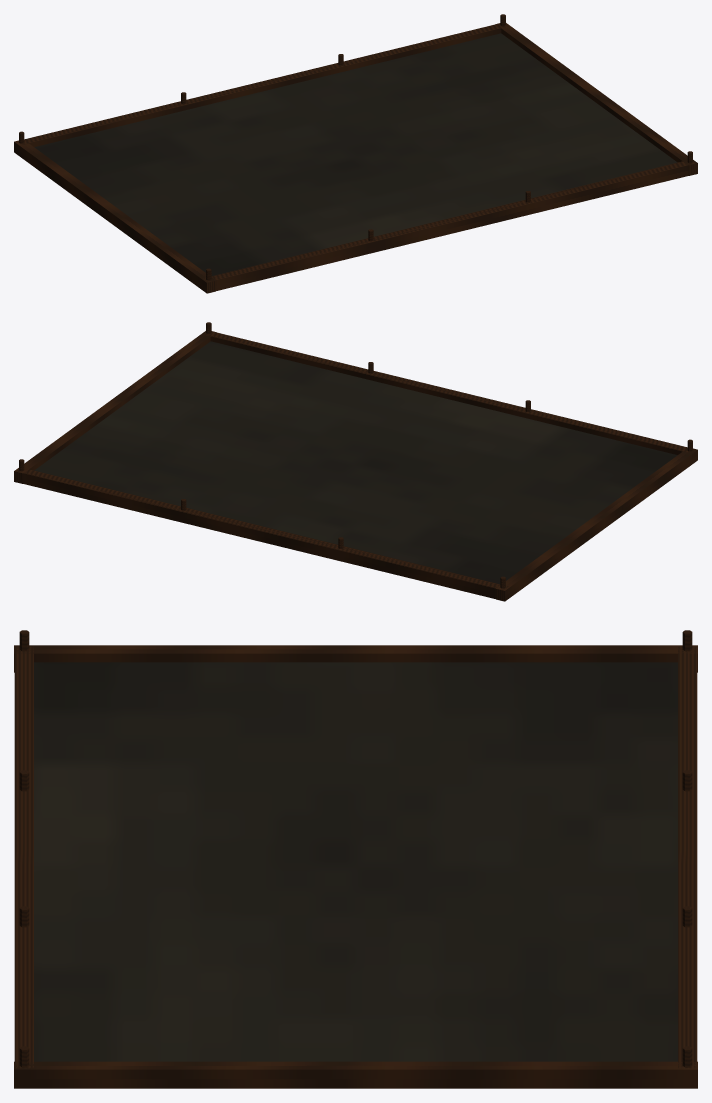
File: fac_yard_gravel.glb
The picture shows the model from 3 angles, top to bottom: view 1: azimuth 30°, elevation 25°; view 2: azimuth 150°, elevation 25°; view 3: azimuth 270°, elevation 25°; orthographic projection. The views are drawn at different scales.
Parts seen in each view (by area): view 1: FAC_YARD_GRAVEL; view 2: FAC_YARD_GRAVEL; view 3: FAC_YARD_GRAVEL.
Part boxes in pixels (x1,y1,x2,y2): FAC_YARD_GRAVEL: [14, 14, 697, 293]; FAC_YARD_GRAVEL: [14, 322, 697, 601]; FAC_YARD_GRAVEL: [14, 630, 697, 1088].
Bounding box in the file's own units: 12.48 × 0.5 × 8.5.
Materials: 2 (2 with a texture image).
